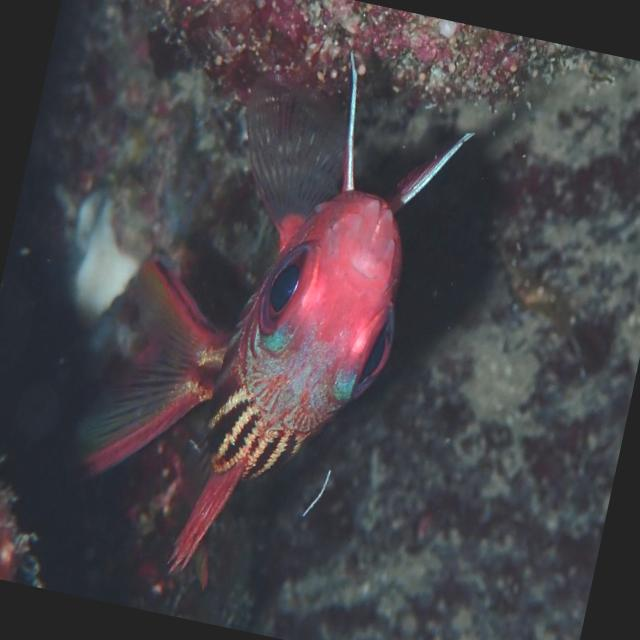Asker Baligi: (46, 108, 453, 640)
